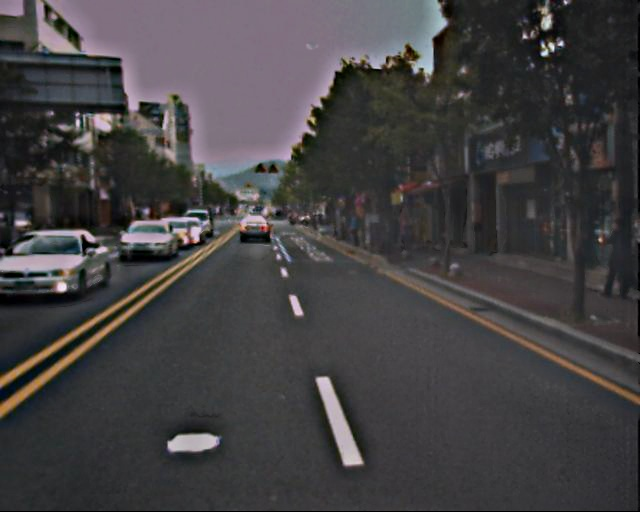person: (596, 219, 633, 302)
